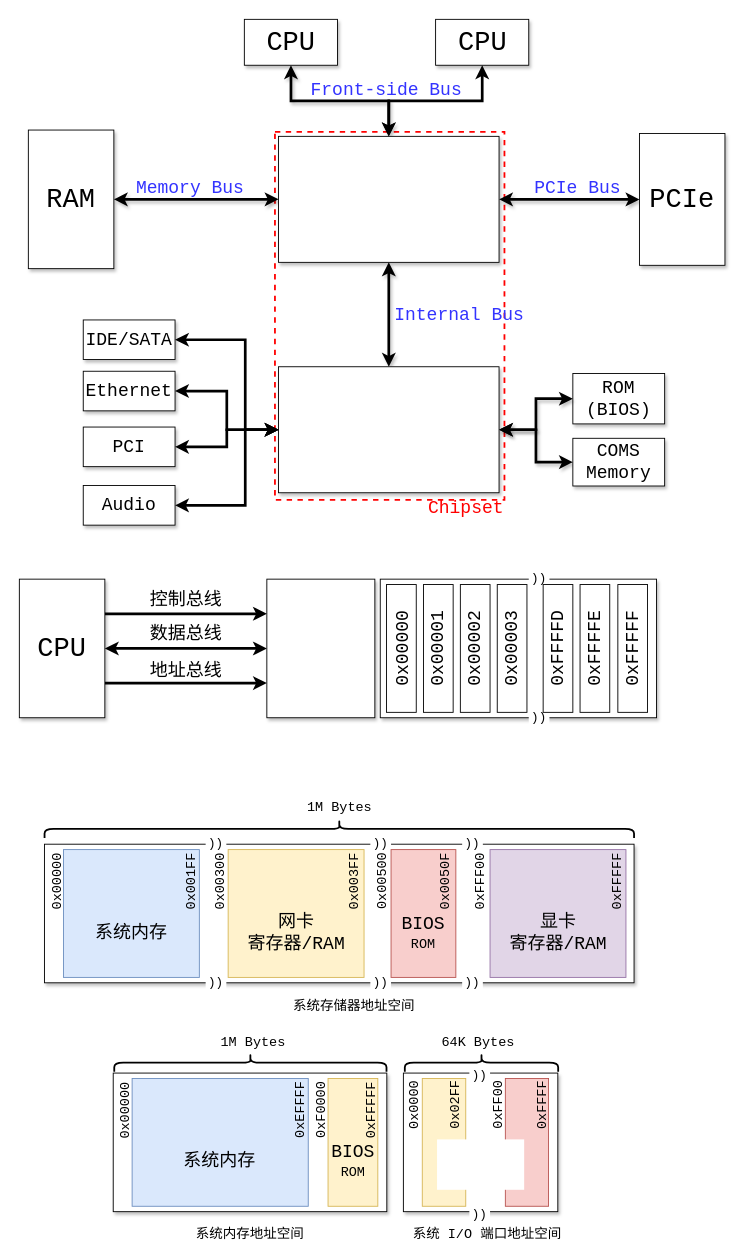
The diagram is 746 pixels wide and 1259 high, and some of its shapes have lost their labels. Here are the shapes that lost their labels. From the top down, the centre of each, then its label:
At (x=389, y=200): "North Bridge".
At (x=389, y=430): "South Bridge".
At (x=321, y=649): "RAM Controller".
At (x=480, y=1164): "I/O 设备 寄存器".
